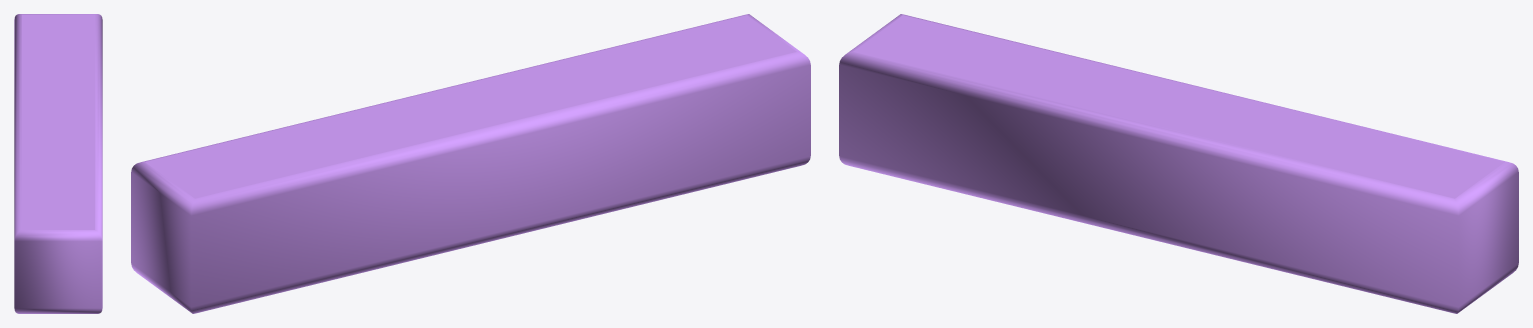
File: Toy54.fbx
3 views of the same model, side by side, from view 1: azimuth 30°, elevation 25°; view 2: azimuth 150°, elevation 25°; view 3: azimuth 270°, elevation 25° (orthographic). The views are drawn at different scales.
Visible parts, largest first — view 1: Toy54; view 2: Toy54; view 3: Toy54.
Boxes of the visible parts, bbox=[...] form: Toy54: bbox=[14, 14, 102, 313]; Toy54: bbox=[131, 14, 810, 313]; Toy54: bbox=[839, 14, 1518, 313].
Bounding box in the file's own units: 0.0938 × 0.0256 × 0.1381.
